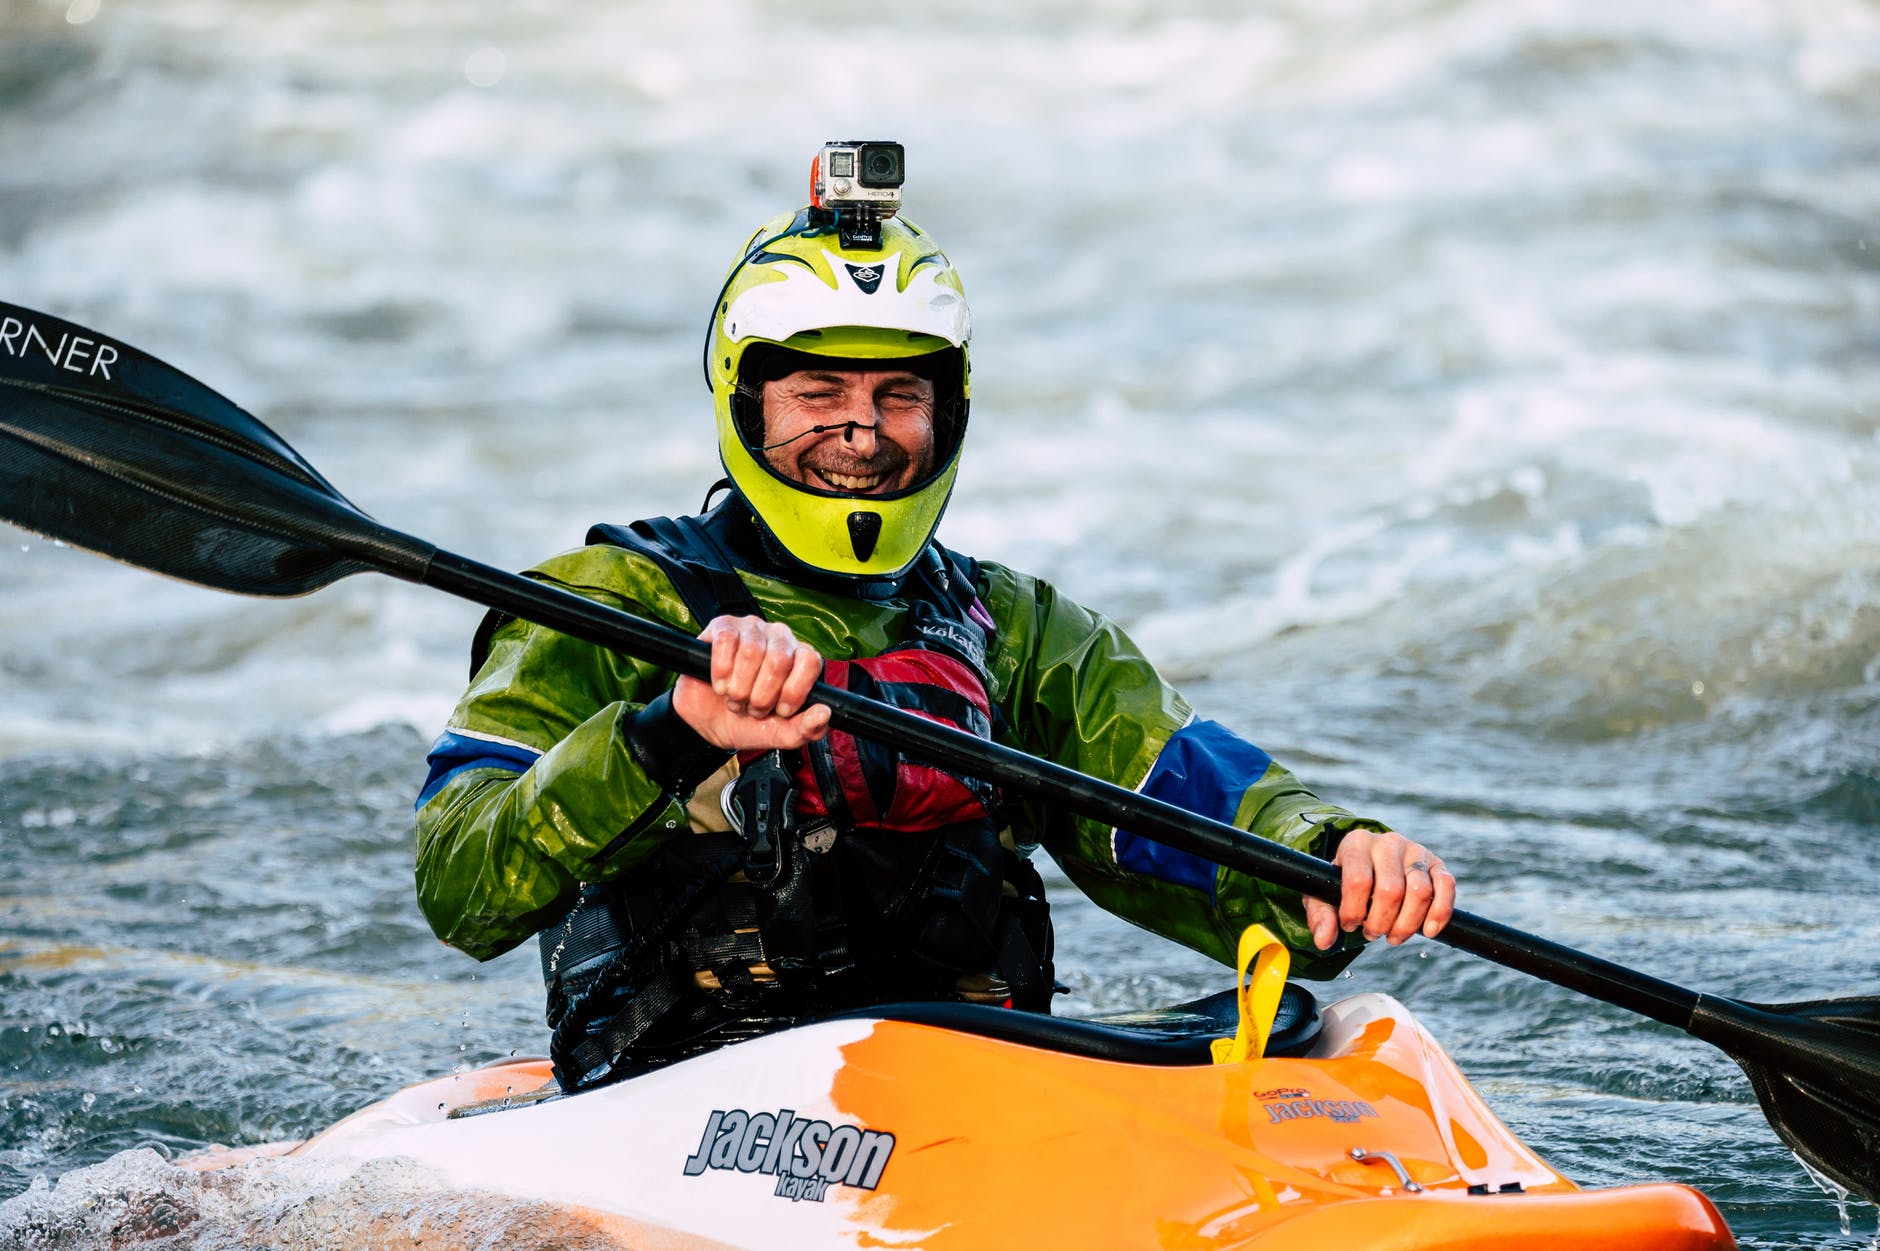helmet: (712, 182, 977, 595)
